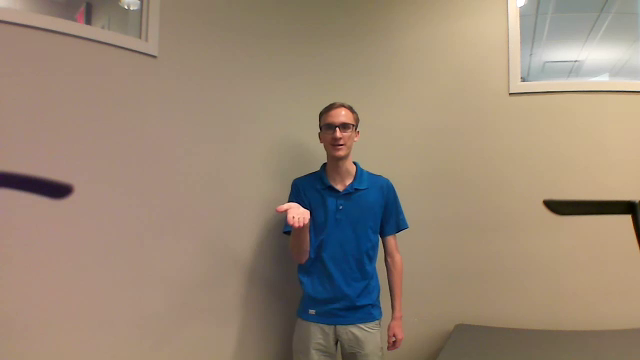land: (273, 198, 317, 231)
